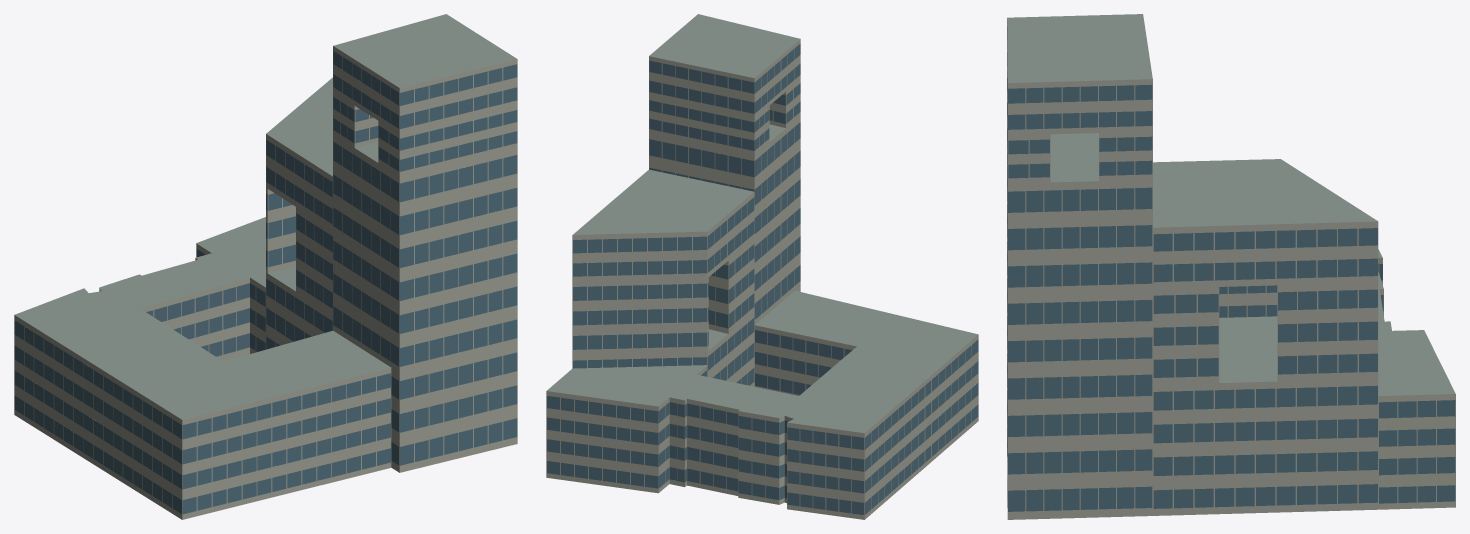
File: ito-tower-far.glb
3 renders of one model, left to right at view 1: azimuth 30°, elevation 25°; view 2: azimuth 150°, elevation 25°; view 3: azimuth 270°, elevation 25°, orthographic. The views are drawn at different scales.
Visible parts, largest first — view 1: ito-tower-0-glass, ito-tower-0-stone, ito-tower-0-roof; view 2: ito-tower-0-glass, ito-tower-0-stone, ito-tower-0-roof; view 3: ito-tower-0-glass, ito-tower-0-stone, ito-tower-0-roof.
Part boxes in pixels (<box>): ito-tower-0-glass: <box>14,51,517,514</box>; ito-tower-0-stone: <box>14,46,517,519</box>; ito-tower-0-roof: <box>14,14,516,419</box>; ito-tower-0-glass: <box>547,43,978,514</box>; ito-tower-0-stone: <box>546,39,978,519</box>; ito-tower-0-roof: <box>547,14,977,432</box>; ito-tower-0-glass: <box>1007,26,1455,511</box>; ito-tower-0-stone: <box>1007,20,1455,519</box>; ito-tower-0-roof: <box>1007,14,1455,396</box>.
Size of the model in its own units: 94.53 by 100 by 93.08.
